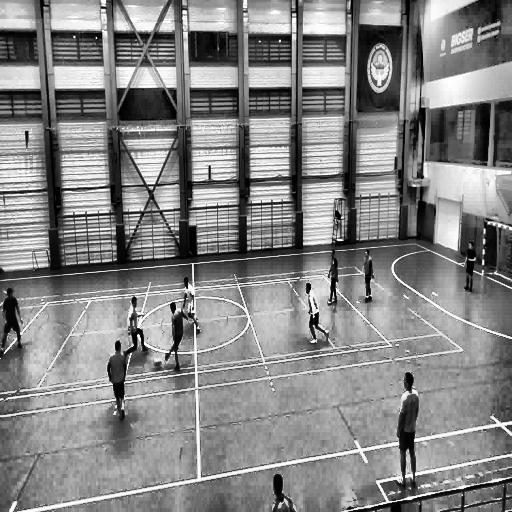ball: (154, 357, 161, 366)
player: (393, 370, 420, 488), (108, 340, 127, 424), (164, 300, 186, 371), (306, 282, 331, 344), (124, 296, 149, 356), (2, 288, 24, 352), (182, 276, 200, 334), (464, 241, 477, 290), (363, 249, 374, 302), (328, 250, 338, 305)
